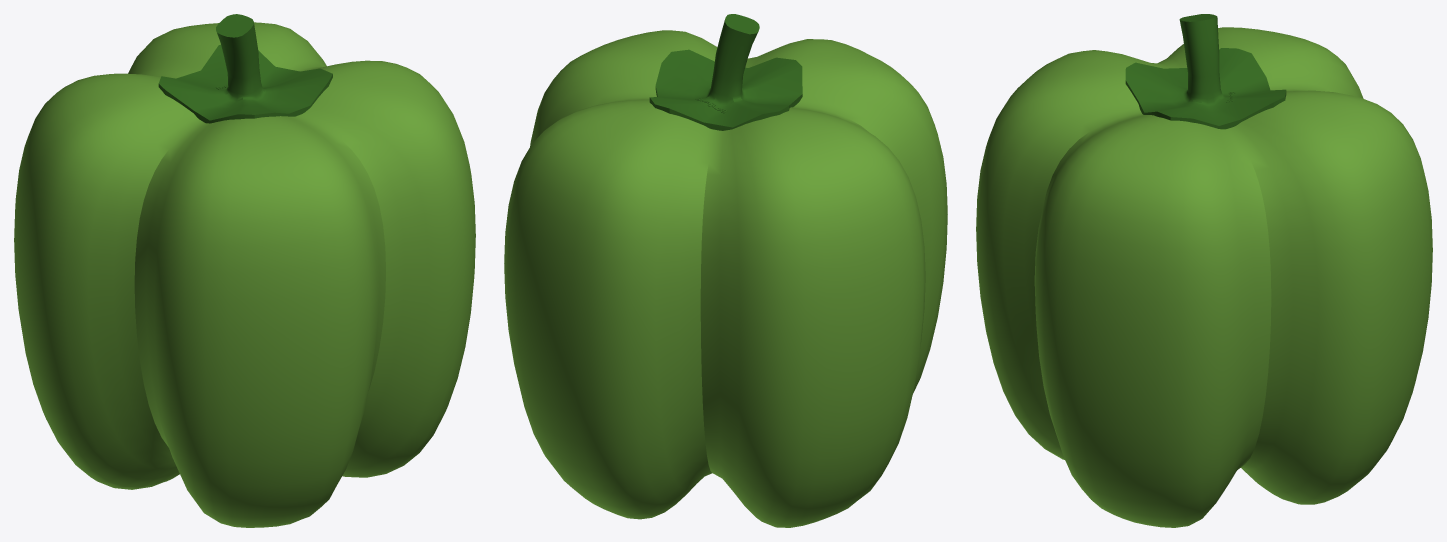
The model's file is bell_pepper.glb.
The picture shows the model from 3 angles, left to right: view 1: azimuth 30°, elevation 25°; view 2: azimuth 150°, elevation 25°; view 3: azimuth 270°, elevation 25°; orthographic projection.
Visible parts, largest first — view 1: Sphere.484; view 2: Sphere.484; view 3: Sphere.484.
Part boxes in pixels (x1=…): Sphere.484: x1=14, y1=14, x2=475, y2=527; Sphere.484: x1=504, y1=14, x2=947, y2=527; Sphere.484: x1=976, y1=14, x2=1432, y2=527.
Size of the model in its own units: 1.99 by 2.2 by 1.99.
Materials: 1 (1 with a texture image).
